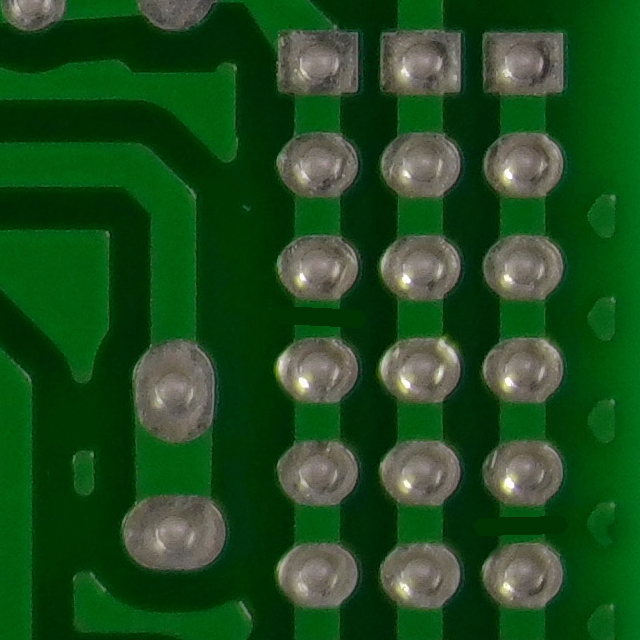open_circuit: (480, 504, 583, 556), (280, 294, 360, 347)
